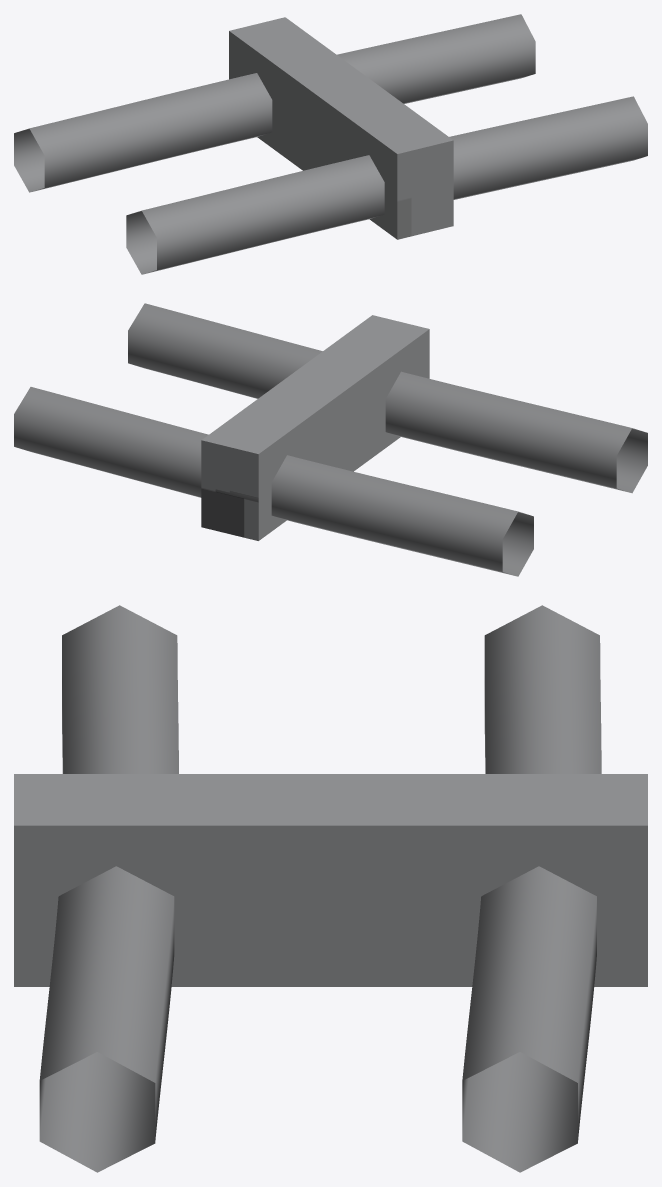
3 renders of one model, top to bottom at view 1: azimuth 30°, elevation 25°; view 2: azimuth 150°, elevation 25°; view 3: azimuth 270°, elevation 25°, orthographic. The views are drawn at different scales.
Size of the model in its own units: 0.1904 by 0.032 by 0.114.
